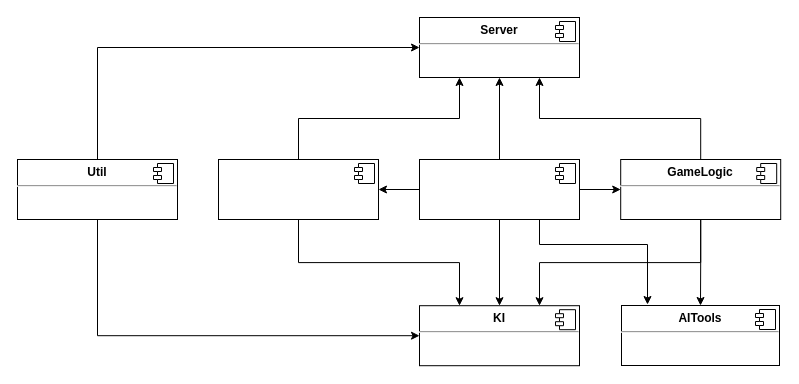
This 799x384 diagram has some shape labels left out. Here are the shapes that lost their labels. From the top down, the box of each, then its label:
(218, 158, 378, 220): Network
(418, 158, 580, 220): Messages
